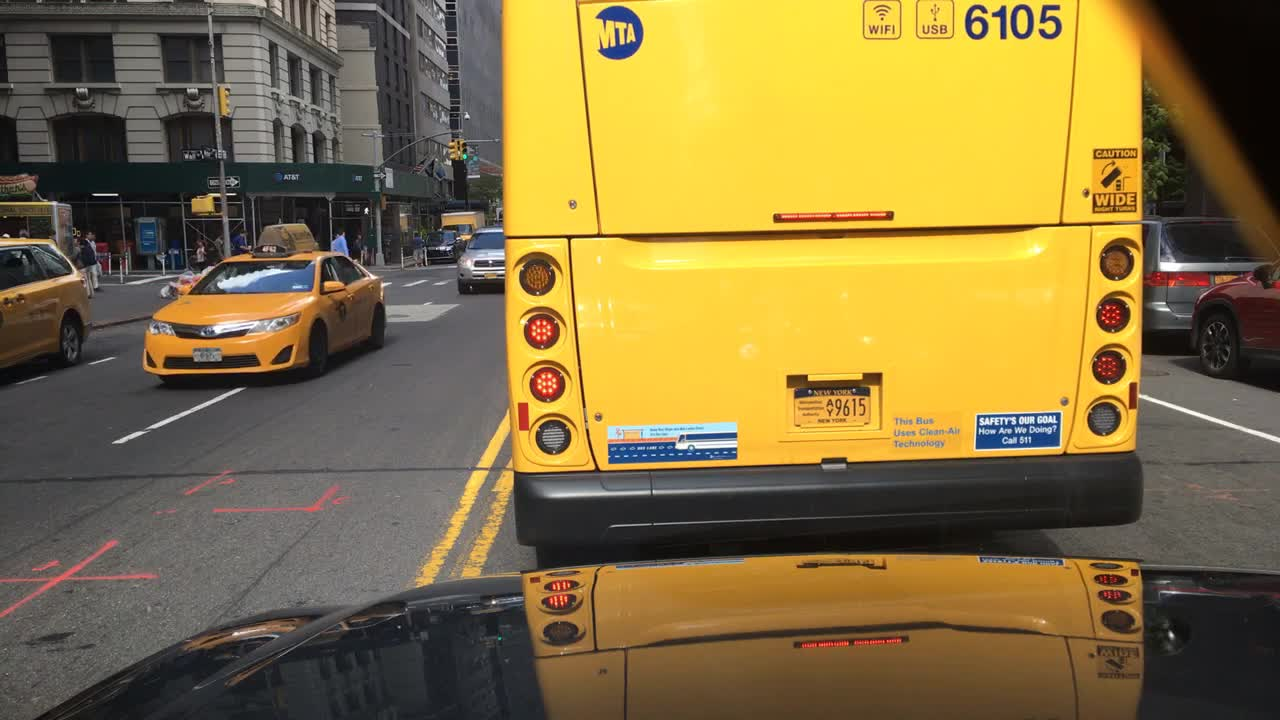bus: (498, 0, 1142, 567)
car: (141, 221, 387, 387), (1135, 213, 1263, 344), (0, 234, 92, 384), (1193, 256, 1279, 376), (456, 223, 514, 292), (420, 226, 462, 263), (439, 209, 478, 239)
person: (71, 231, 92, 291), (83, 231, 103, 278), (190, 241, 211, 270), (408, 230, 423, 265), (232, 228, 250, 256), (330, 230, 348, 256), (353, 234, 363, 255)
traffic light: (218, 81, 231, 117), (191, 194, 215, 213), (457, 139, 470, 163), (448, 139, 457, 161)
traffic sign: (208, 170, 241, 186), (369, 170, 386, 179)
